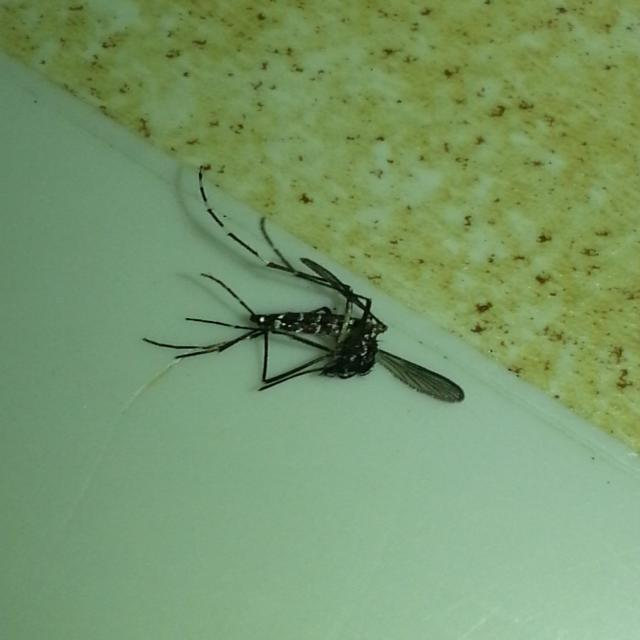albopictus: (126, 144, 455, 414)
